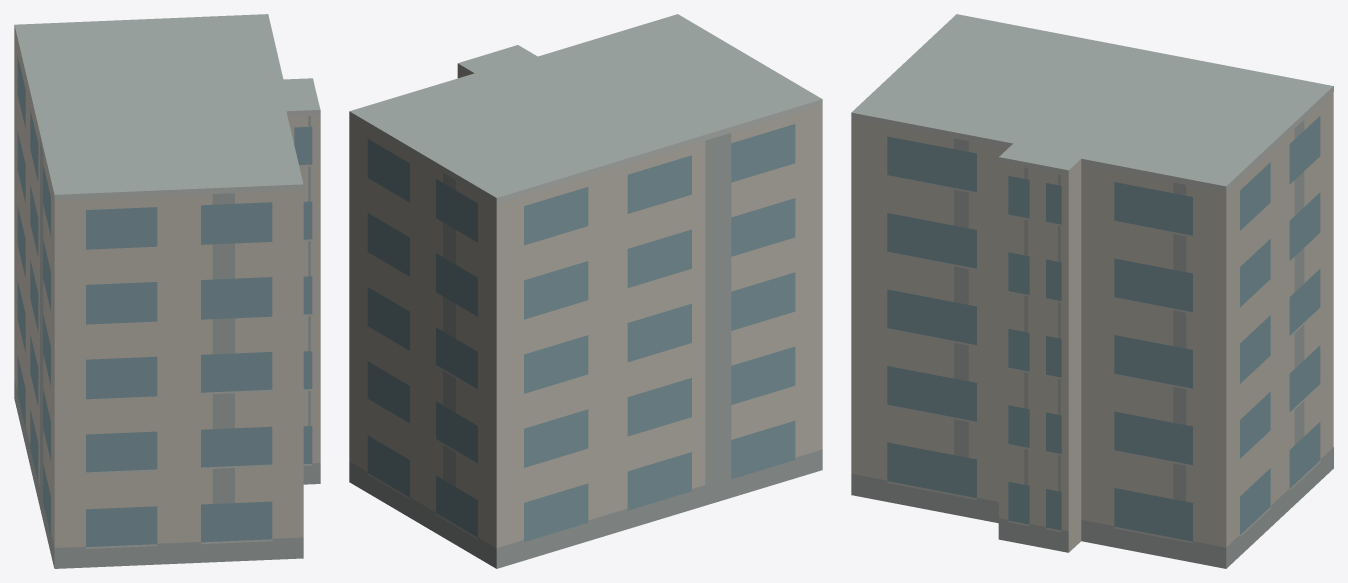
File: residential-4807e388-5a1a-4d6c-a1e3-892294b624f6.glb
The picture shows the model from 3 angles, left to right: view 1: azimuth 30°, elevation 25°; view 2: azimuth 150°, elevation 25°; view 3: azimuth 270°, elevation 25°; orthographic projection. The views are drawn at different scales.
Visible parts, largest first — view 1: residential-4807e388-5a1a-4d6c-a1e3-892294b624f6.tmp; view 2: residential-4807e388-5a1a-4d6c-a1e3-892294b624f6.tmp; view 3: residential-4807e388-5a1a-4d6c-a1e3-892294b624f6.tmp.
Boxes of the visible parts, x1,y1,x2,y2 form: residential-4807e388-5a1a-4d6c-a1e3-892294b624f6.tmp: [14, 14, 320, 568]; residential-4807e388-5a1a-4d6c-a1e3-892294b624f6.tmp: [349, 14, 822, 568]; residential-4807e388-5a1a-4d6c-a1e3-892294b624f6.tmp: [851, 14, 1333, 568].
Bounding box in the file's own units: 14.75 × 15.25 × 17.44.
